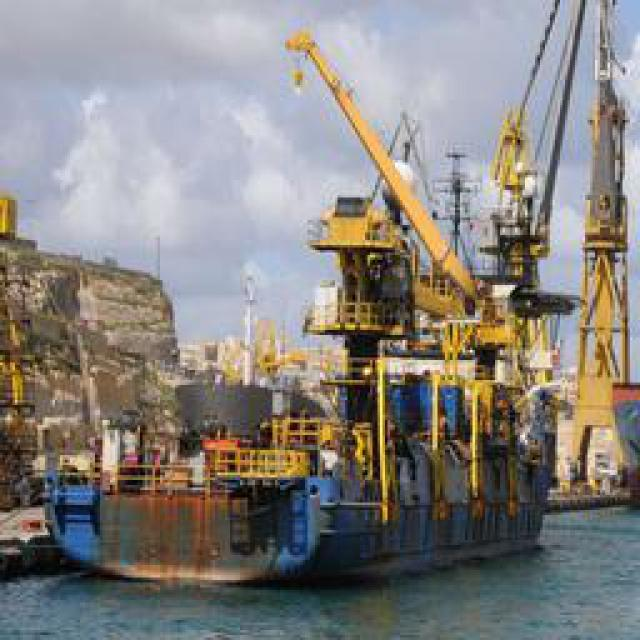Ship: (30, 344, 573, 597)
